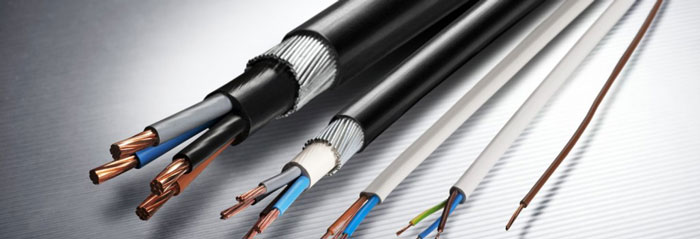Nonrec_Tangler: (57, 1, 668, 235)
